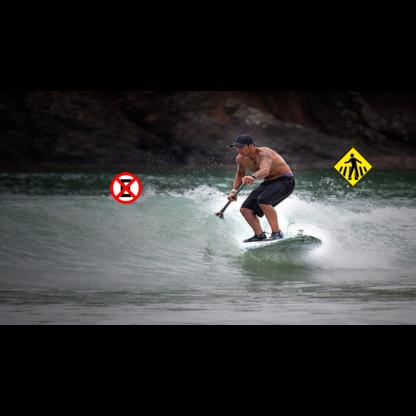A-32b: (332, 146, 374, 187)
R-6c: (110, 172, 142, 204)
